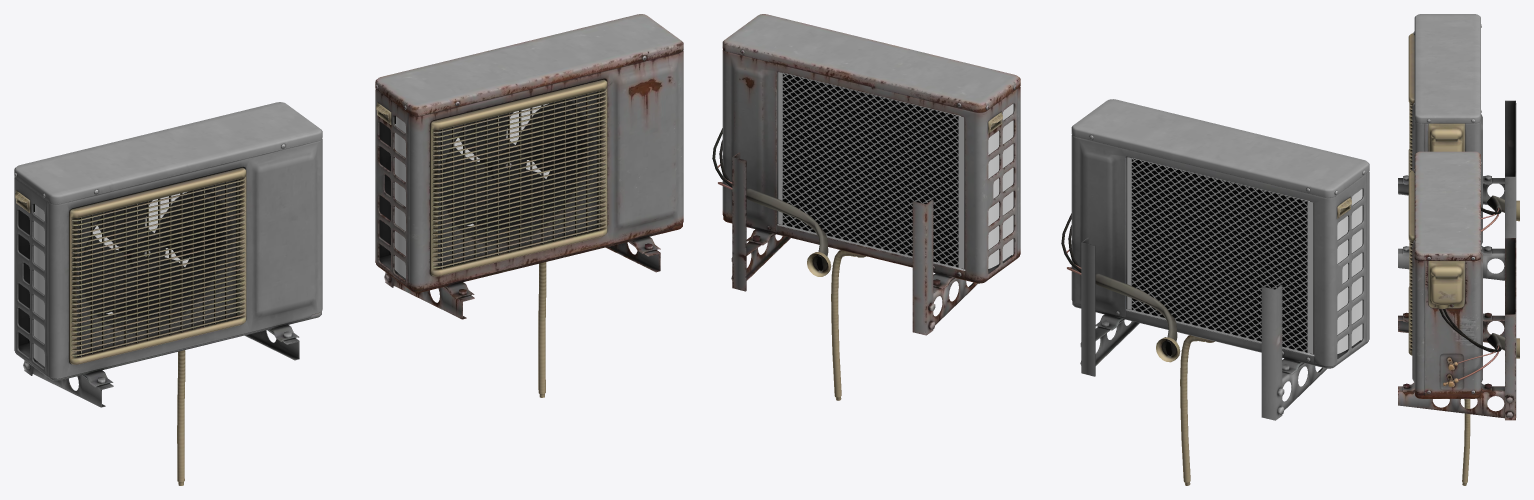
File: exterior_aircon_unit.glb
3 renders of one model, left to right at view 1: azimuth 30°, elevation 25°; view 2: azimuth 150°, elevation 25°; view 3: azimuth 270°, elevation 25°, orthographic. The views are drawn at different scales.
Parts seen in each view (by area): view 1: exterior_aircon_unit_rusted, exterior_aircon_unit; view 2: exterior_aircon_unit, exterior_aircon_unit_rusted; view 3: exterior_aircon_unit_rusted, exterior_aircon_unit.
Part boxes in pixels (bbox=[...]): exterior_aircon_unit_rusted: bbox=[375, 14, 683, 397]; exterior_aircon_unit: bbox=[14, 102, 322, 485]; exterior_aircon_unit: bbox=[1061, 99, 1369, 485]; exterior_aircon_unit_rusted: bbox=[712, 14, 1020, 400]; exterior_aircon_unit_rusted: bbox=[1398, 151, 1519, 485]; exterior_aircon_unit: bbox=[1398, 14, 1519, 280].
Size of the model in its own units: 1.8 by 0.9279 by 0.3742.
Materials: 4 (4 with a texture image).
